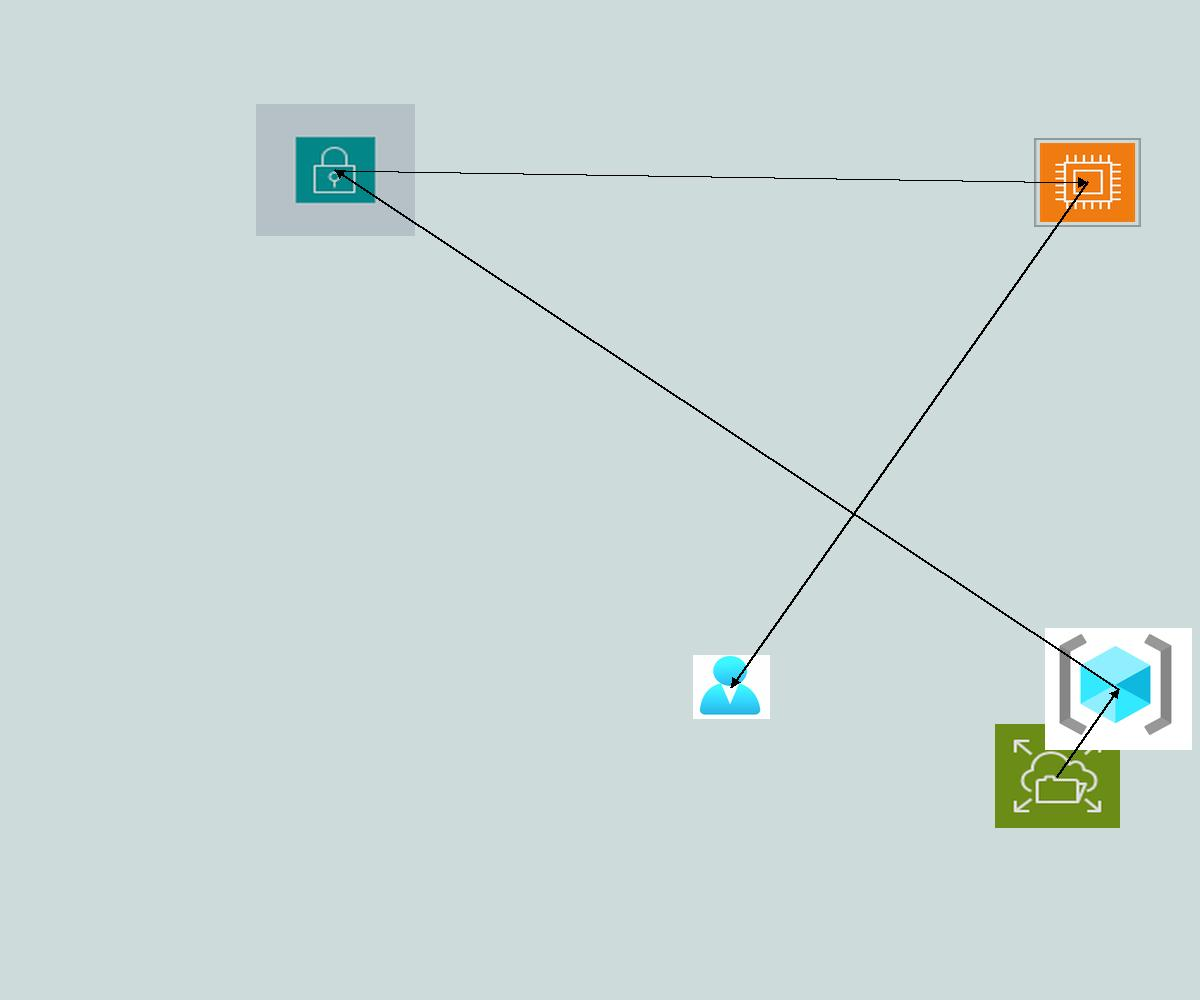AWS-Category_Compute: (1034, 138, 1141, 227)
AWS-EFS: (995, 724, 1120, 828)
AWS-Private-subnet: (256, 104, 415, 236)
Azure_resource_group: (1045, 628, 1192, 750)
Azure_users: (693, 655, 770, 719)
